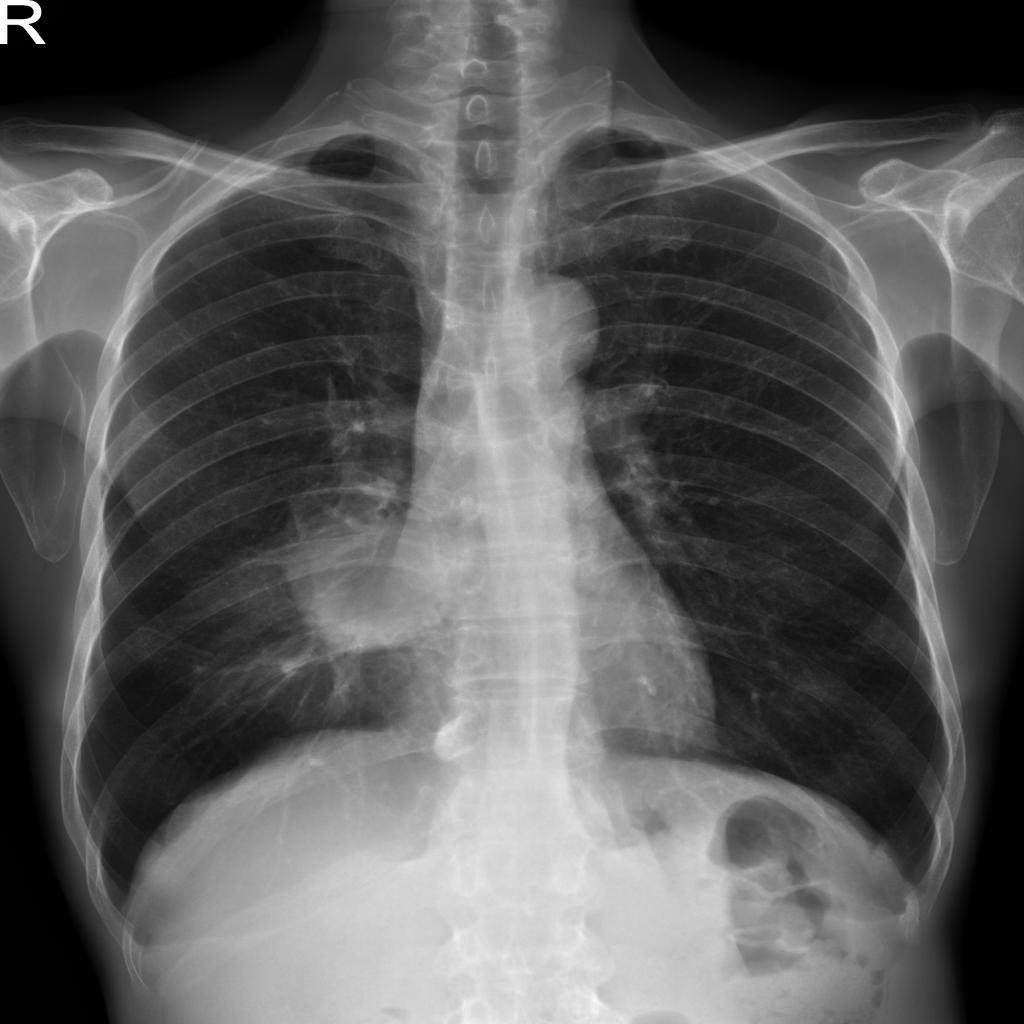Nodule: (257, 462, 469, 674)
